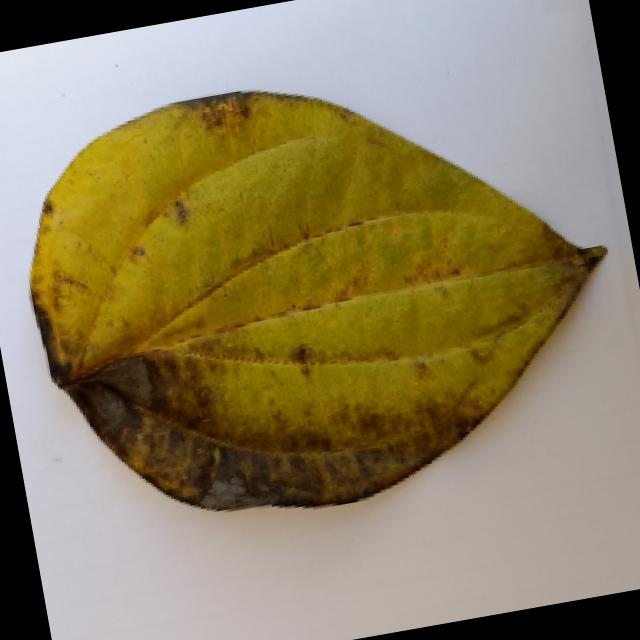slow-decline: (3, 36, 638, 551)
